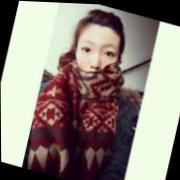WRONG: (70, 33, 121, 91)
